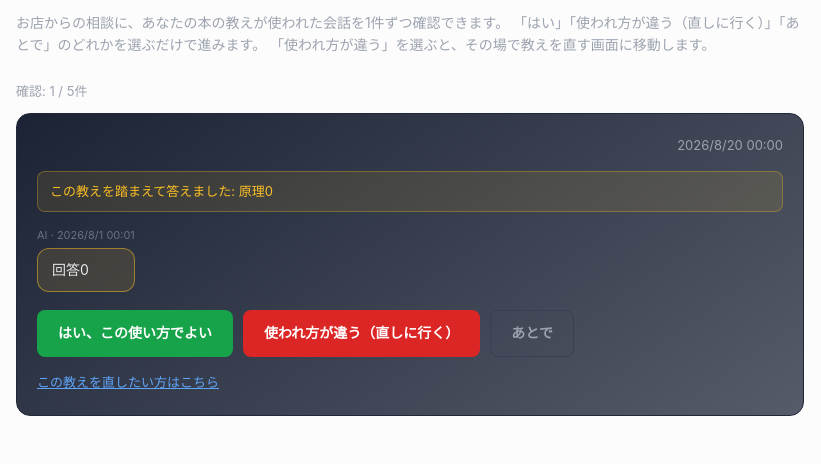
AuthorLoopPage › たまっている会話を全て確認済みにすると、空欄ではなく「すべて確認済み」の案内が出る
Click the button "はい、この使い方でよい" at (135, 333), box [37,310,233,357]
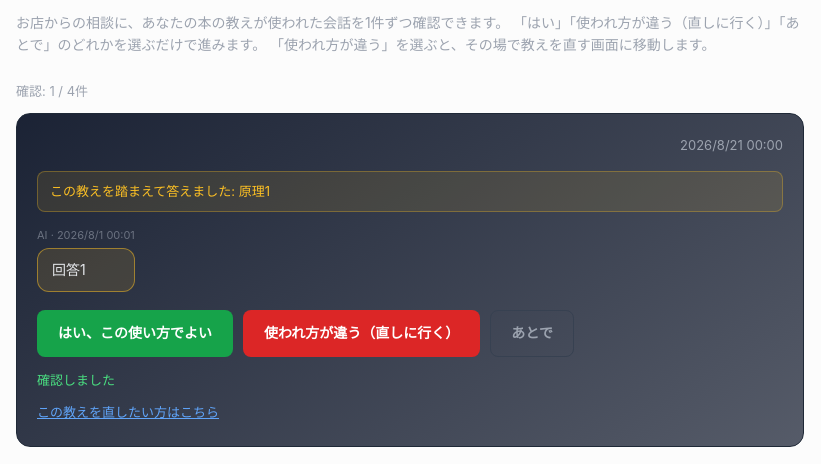
Click the button "はい、この使い方でよい" at (135, 333), box [37,310,233,357]
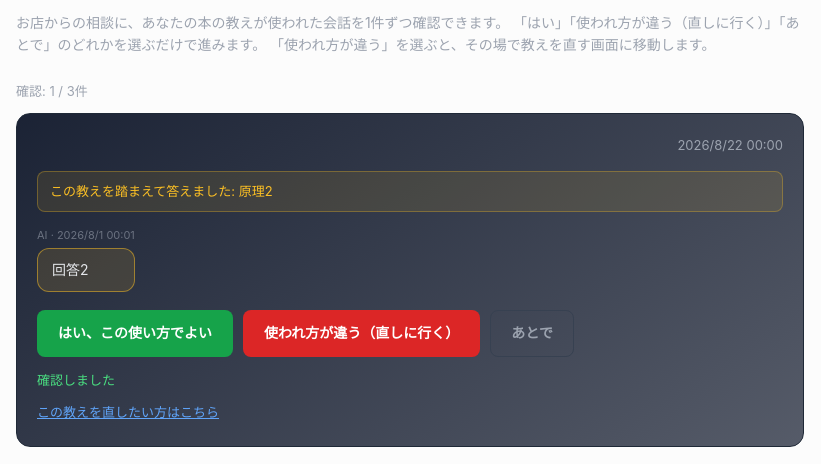
Click the button "はい、この使い方でよい" at (135, 333), box [37,310,233,357]
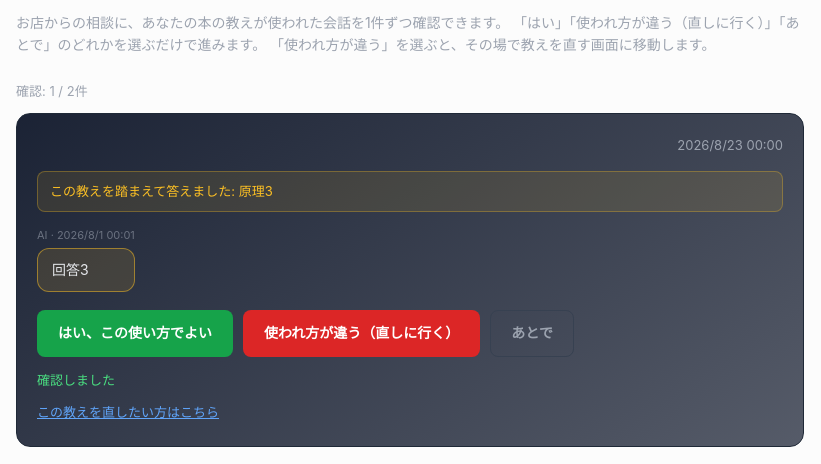
Click the button "はい、この使い方でよい" at (135, 333), box [37,310,233,357]
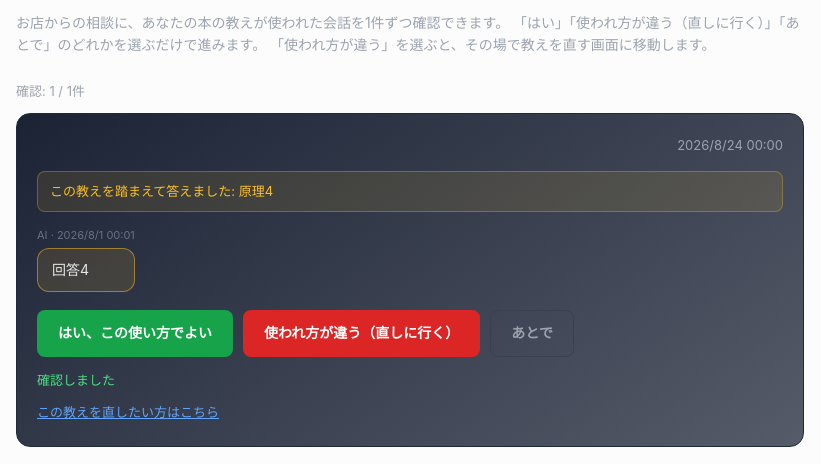
Click the button "はい、この使い方でよい" at (135, 333), box [37,310,233,357]
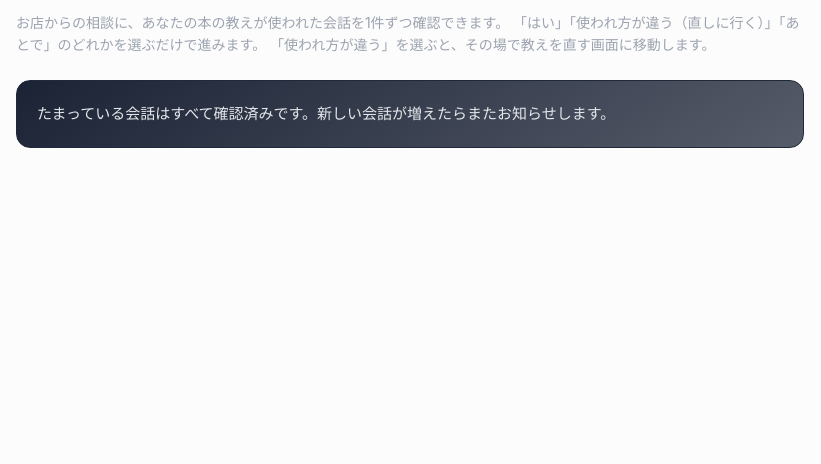
expect the text "たまっている会話はすべて確認済みです。新しい会話が増えたらまたお知らせします。" is shown: met, box [37,104,615,123]
